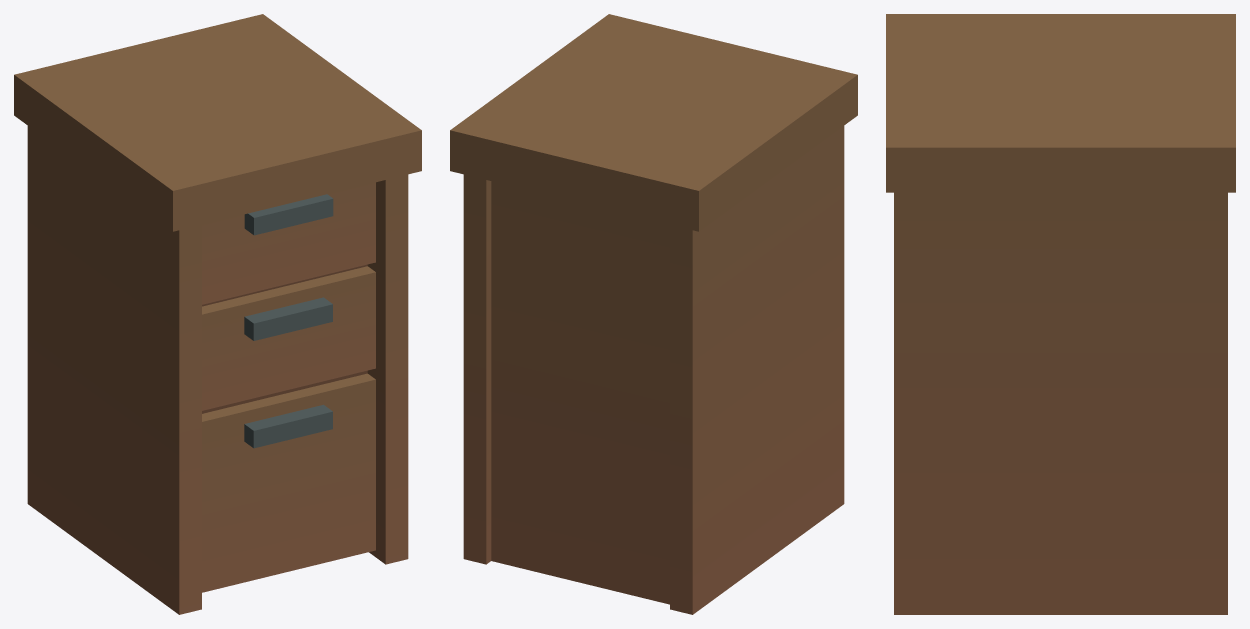
File: Drawer-1.fbx
The picture shows the model from 3 angles, left to right: view 1: azimuth 30°, elevation 25°; view 2: azimuth 150°, elevation 25°; view 3: azimuth 270°, elevation 25°; orthographic projection. The views are drawn at different scales.
Visible parts, largest first — view 1: Drawer-1; view 2: Drawer-1; view 3: Drawer-1.
Boxes of the visible parts, x1,y1,x2,y2 form: Drawer-1: [14, 14, 421, 614]; Drawer-1: [450, 14, 857, 614]; Drawer-1: [886, 14, 1235, 614].
Bounding box in the file's own units: 83.73 × 138 × 92.57.
